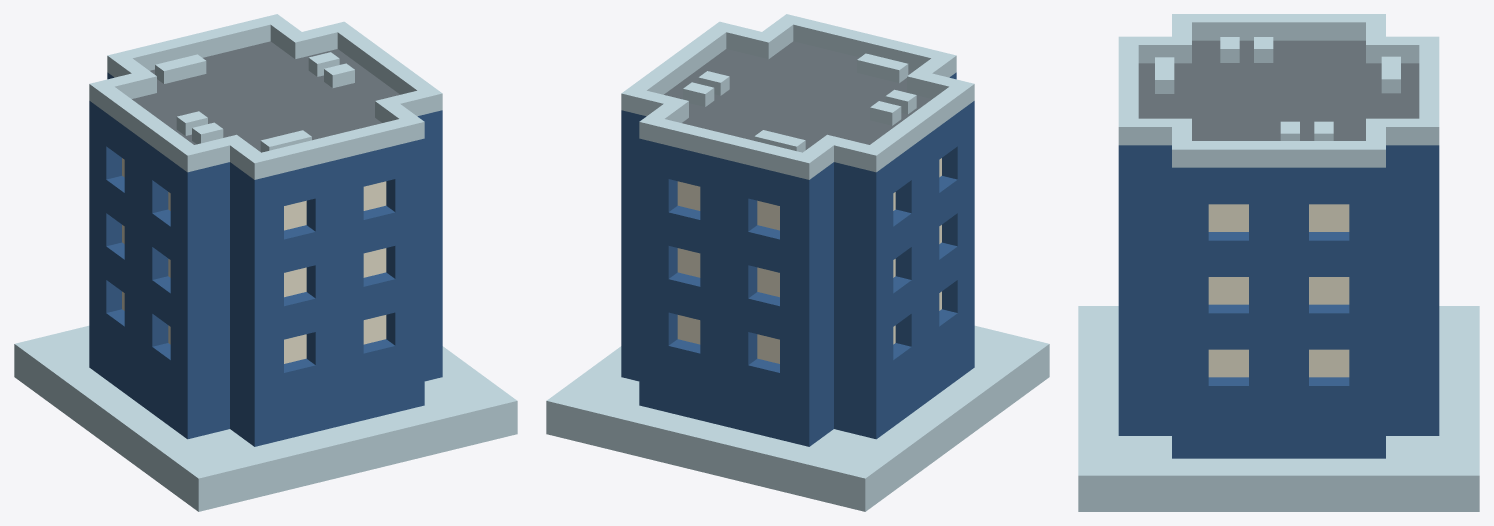
Rendered from Building_4_Base_Extra (Blue).obj.
The picture shows the model from 3 angles, left to right: view 1: azimuth 30°, elevation 25°; view 2: azimuth 150°, elevation 25°; view 3: azimuth 270°, elevation 25°; orthographic projection. The views are drawn at different scales.
Parts seen in each view (by area): view 1: Building_4_Base_Extra_(Blue); view 2: Building_4_Base_Extra_(Blue); view 3: Building_4_Base_Extra_(Blue).
Part boxes in pixels (<box>): Building_4_Base_Extra_(Blue): <box>14,14,517,511</box>; Building_4_Base_Extra_(Blue): <box>546,14,1049,511</box>; Building_4_Base_Extra_(Blue): <box>1078,14,1479,511</box>.
Bounding box in the file's own units: 2 × 1.9 × 2.
